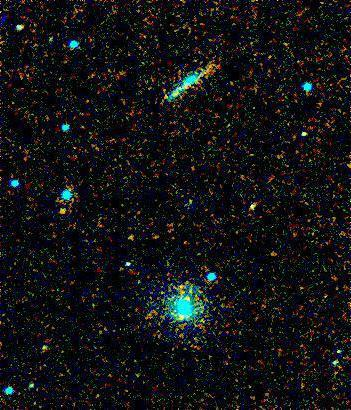star: (48, 197, 78, 227)
